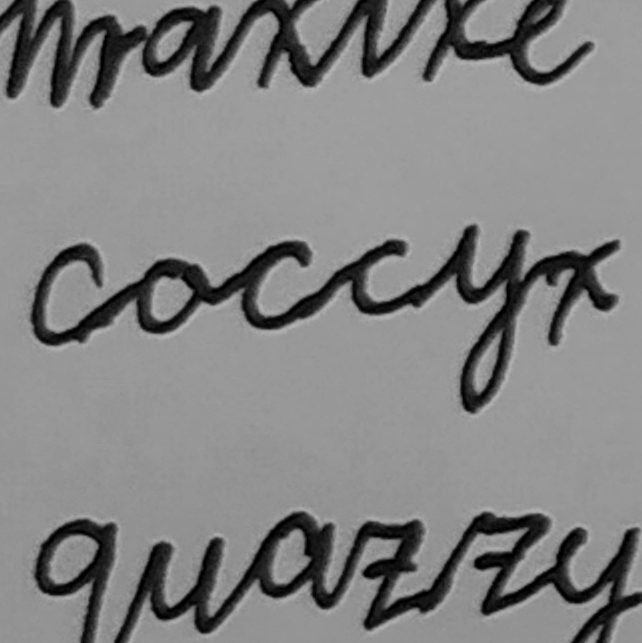c: (25, 237, 120, 350), (231, 233, 325, 336), (340, 233, 427, 325)
o: (128, 250, 215, 344)
x: (538, 231, 629, 351)
y: (440, 220, 536, 420)
